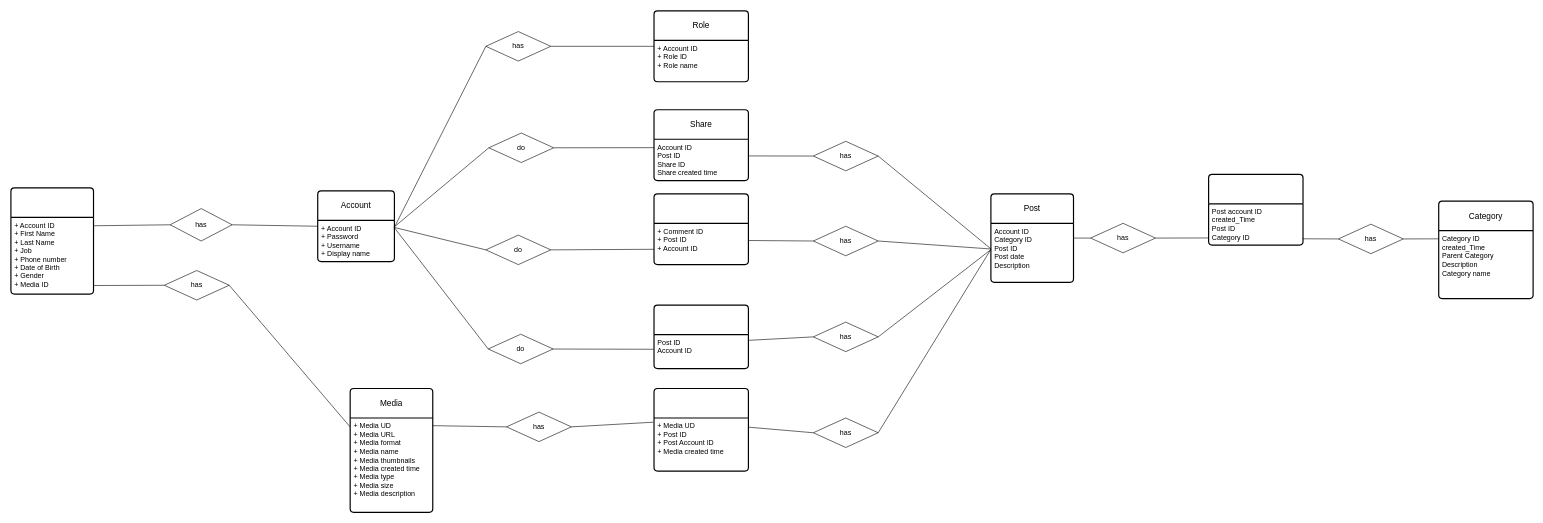
Image size: 1543x523. Some labels were removed from this diagram. Here are the shapes that lost their labels. From the top down, the box of each, then its label:
(653, 193, 749, 265): Comments
(1208, 173, 1303, 245): CategoryToPost
(10, 187, 94, 294): Account Detail
(653, 304, 749, 369): Likes
(653, 388, 749, 471): Media Detail
